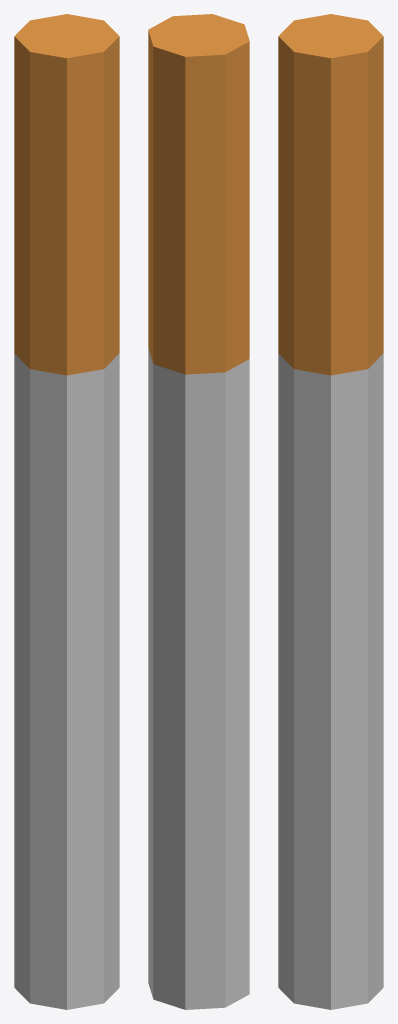
File: cig.glb
The picture shows the model from 3 angles, left to right: view 1: azimuth 90°, elevation 25°; view 2: azimuth 210°, elevation 25°; view 3: azimuth 270°, elevation 25°; orthographic projection.
Parts seen in each view (by area): view 1: Cylinder.002; view 2: Cylinder.002; view 3: Cylinder.002.
Part boxes in pixels (x1,y1,x2,y2): Cylinder.002: [14, 14, 119, 1009]; Cylinder.002: [148, 14, 249, 1009]; Cylinder.002: [278, 14, 383, 1009].
Size of the model in its own units: 0.6 by 6 by 0.6.
